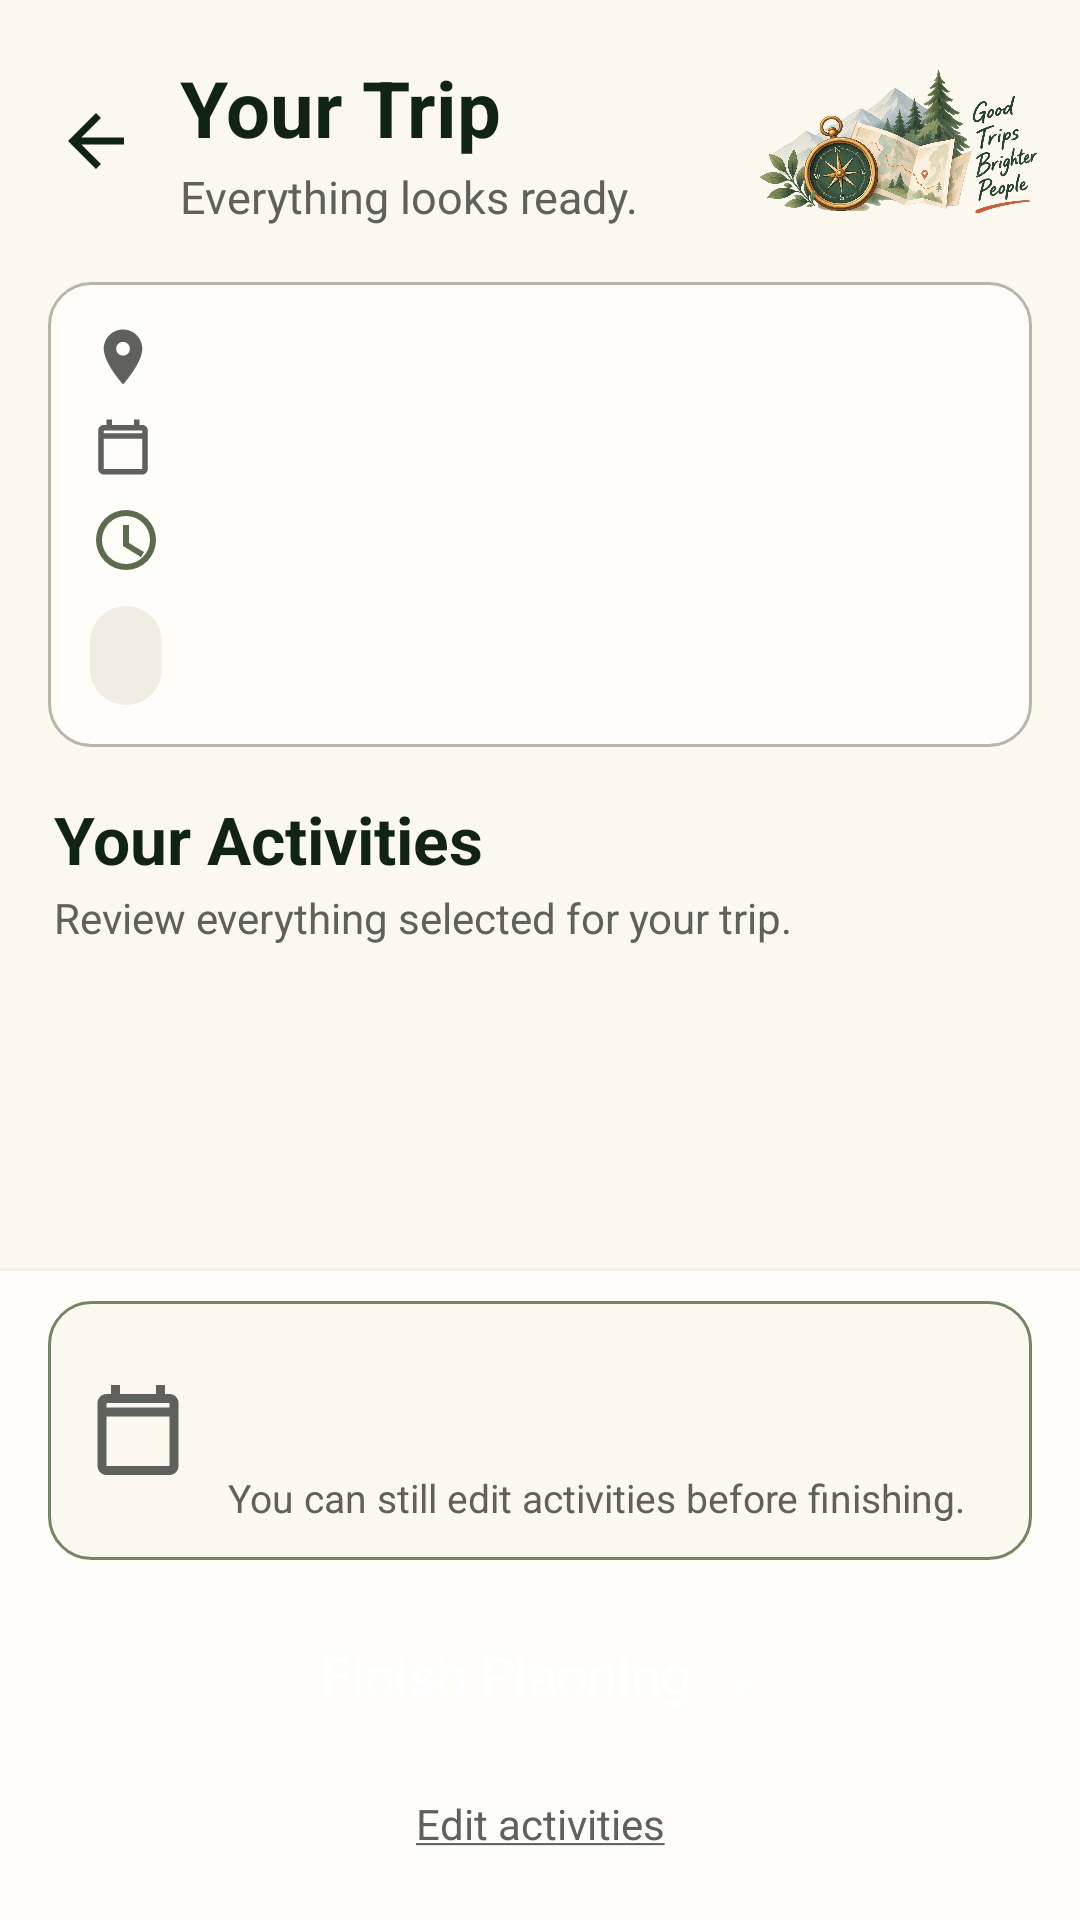

Icon bounding boxes for this 1080×1920 phone screenshot, format (x1, y1, x2, y2):
Go back: (68, 113, 124, 169)
